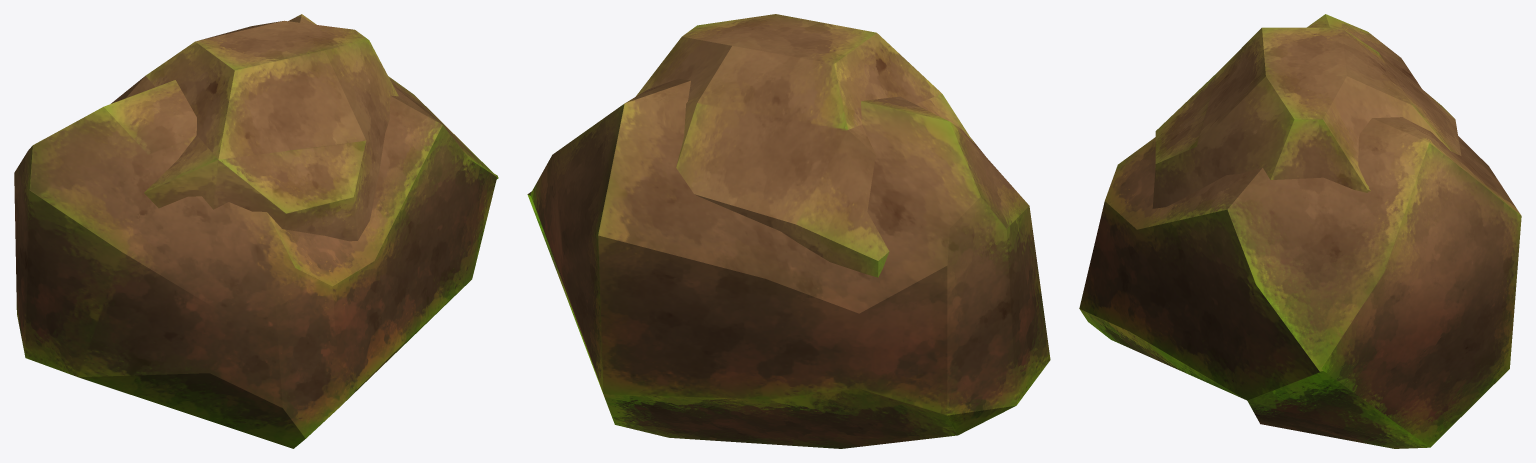
File: Rocas.fbx
3 renders of one model, left to right at view 1: azimuth 30°, elevation 25°; view 2: azimuth 150°, elevation 25°; view 3: azimuth 270°, elevation 25°, orthographic. The views are drawn at different scales.
Visible parts, largest first — view 1: Roca0, Roca3; view 2: Roca0, Roca3; view 3: Roca0, Roca3.
Boxes of the visible parts, x1,y1,x2,y2 form: Roca0: (14,14,498,448); Roca3: (111,20,398,241); Roca0: (527,78,1050,448); Roca3: (636,14,973,277); Roca0: (1079,14,1521,448); Roca3: (1152,27,1461,208).
Bounding box in the file's own units: 566 × 419 × 467.
